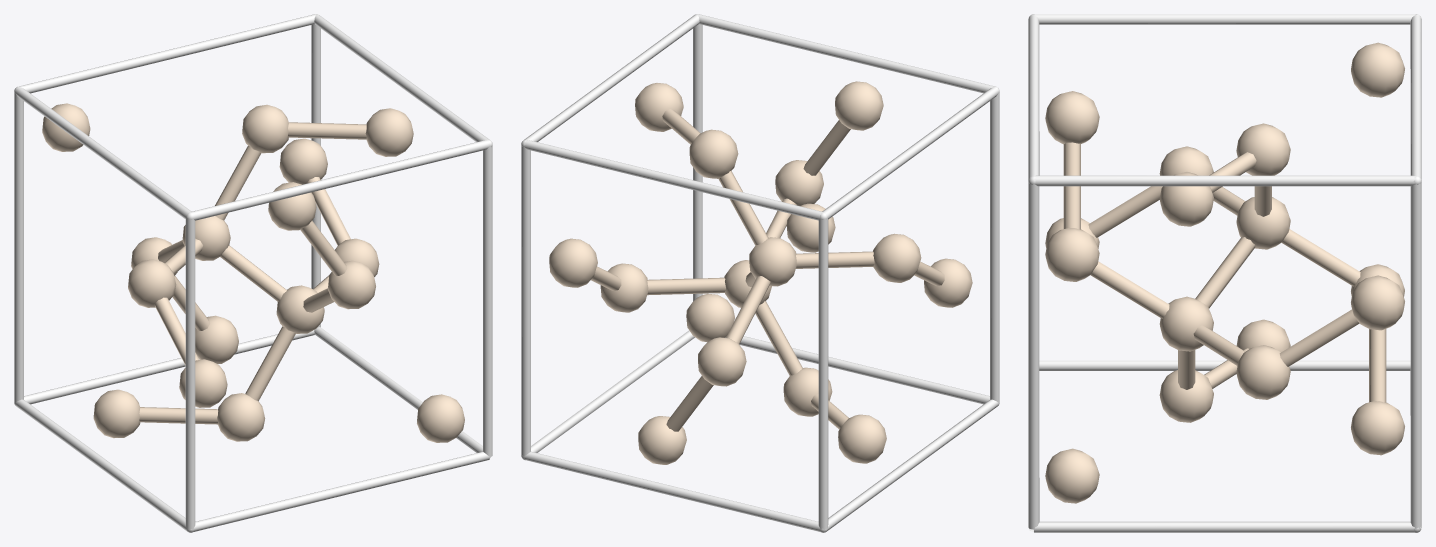
File: SILICIO.fbx
3 views of the same model, side by side, from view 1: azimuth 30°, elevation 25°; view 2: azimuth 150°, elevation 25°; view 3: azimuth 270°, elevation 25° (orthographic). The views are drawn at different scales.
Parts seen in each view (by area): view 1: Si.001, limite.036; view 2: Si.001, limite.036; view 3: Si.001, limite.036.
Part boxes in pixels (<box>): Si.001: <box>42,103,464,442</box>; limite.036: <box>14,14,492,532</box>; Si.001: <box>549,81,972,464</box>; limite.036: <box>521,14,999,532</box>; Si.001: <box>1045,42,1404,503</box>; limite.036: <box>1028,14,1421,532</box>.
Size of the model in its own units: 14.57 by 14.58 by 14.58.
